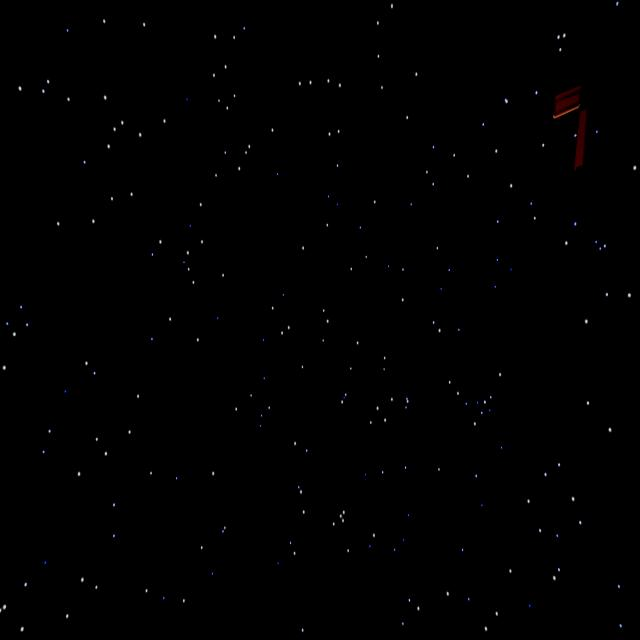satellite: (549, 63, 635, 182)
